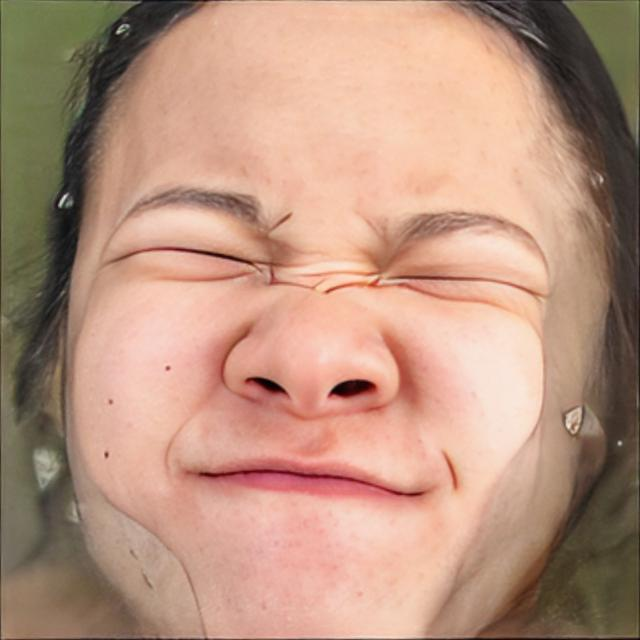disgust: (63, 0, 615, 640)
